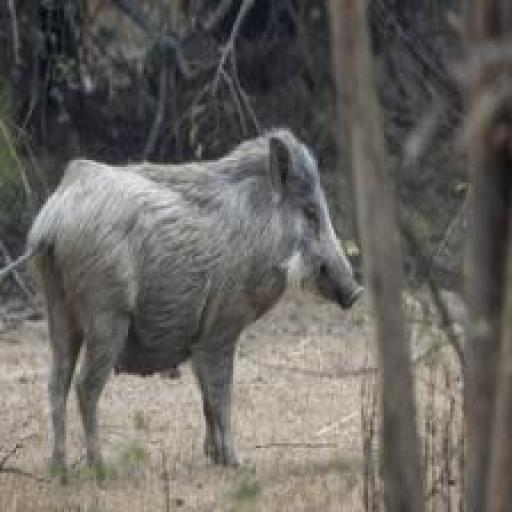Pig: (20, 121, 367, 497)
